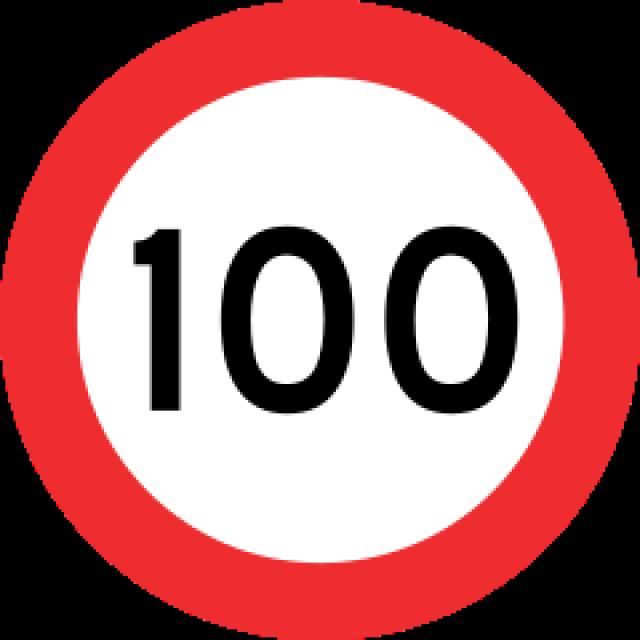Speed Limit -100-: (120, 194, 528, 434)
